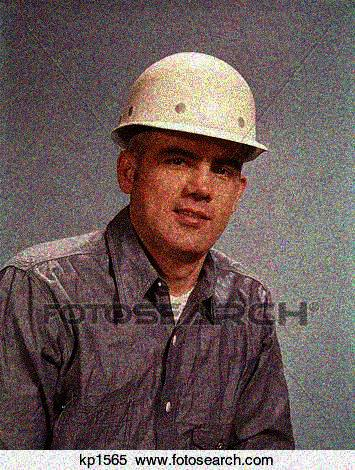helmet: (108, 49, 269, 258)
